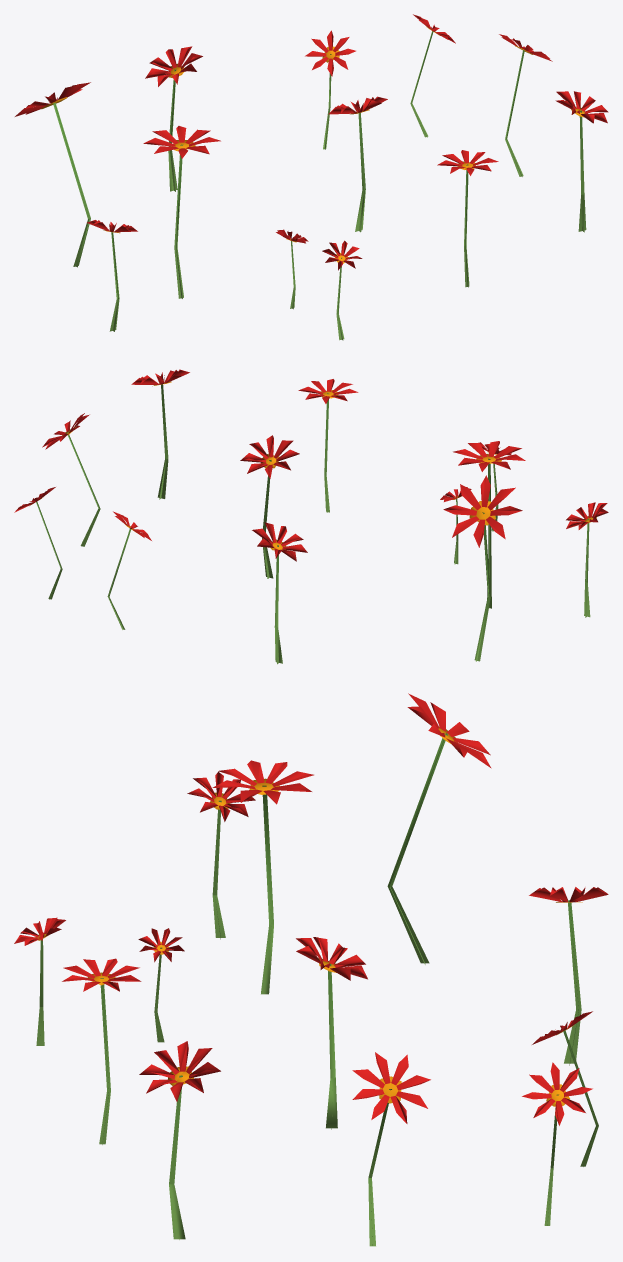
File: flower_red_low.glb
The picture shows the model from 3 angles, top to bottom: view 1: azimuth 30°, elevation 25°; view 2: azimuth 150°, elevation 25°; view 3: azimuth 270°, elevation 25°; orthographic projection. The views are drawn at different scales.
Visible parts, largest first — view 1: Flower 4_4_C; view 2: Flower 4_4_C; view 3: Flower 4_4_C.
Part boxes in pixels (box(x1,y1,x2,y2)): Flower 4_4_C: box(15, 14, 608, 340); Flower 4_4_C: box(14, 369, 608, 664); Flower 4_4_C: box(14, 693, 608, 1246).
Size of the model in its own units: 0.6073 by 0.2104 by 0.4454.
Materials: 1 (1 with a texture image).
